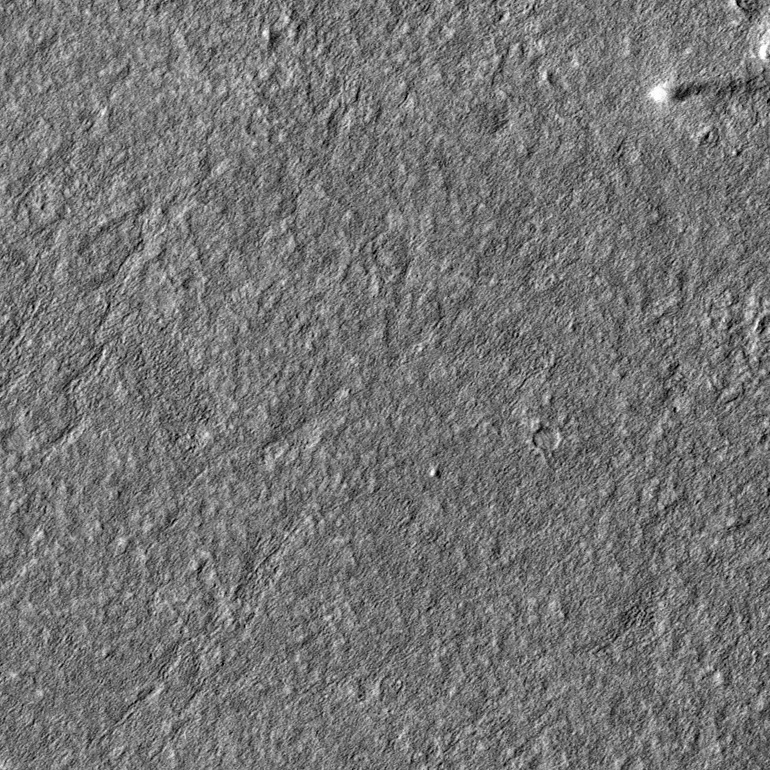dust_devil: (647, 71, 762, 106)
